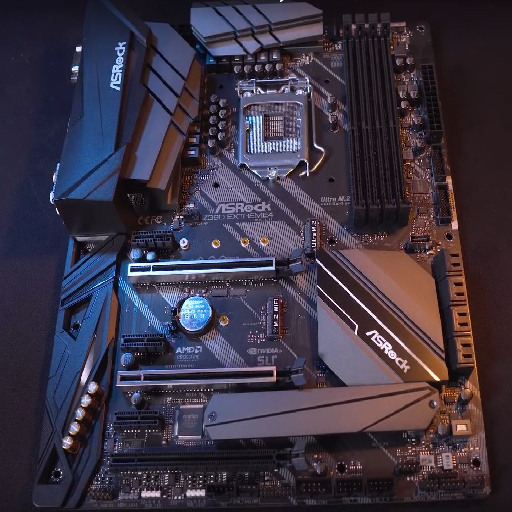CPU: (237, 78, 311, 179)
GPU: (127, 248, 303, 287), (117, 359, 307, 390)
MOTHERBOARD: (41, 7, 493, 507)
RAM: (343, 13, 409, 233)
SSD: (262, 296, 288, 339), (302, 219, 324, 256)
